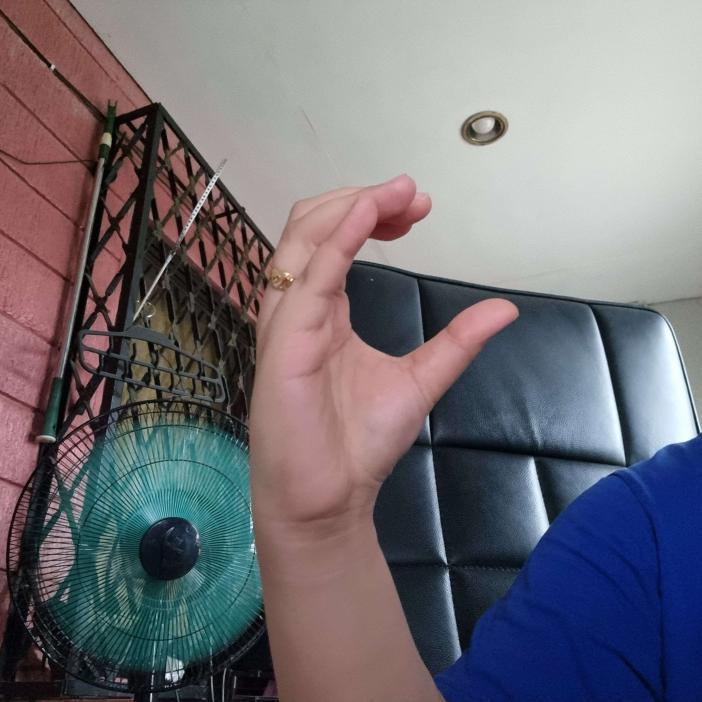c: (249, 171, 521, 536)
